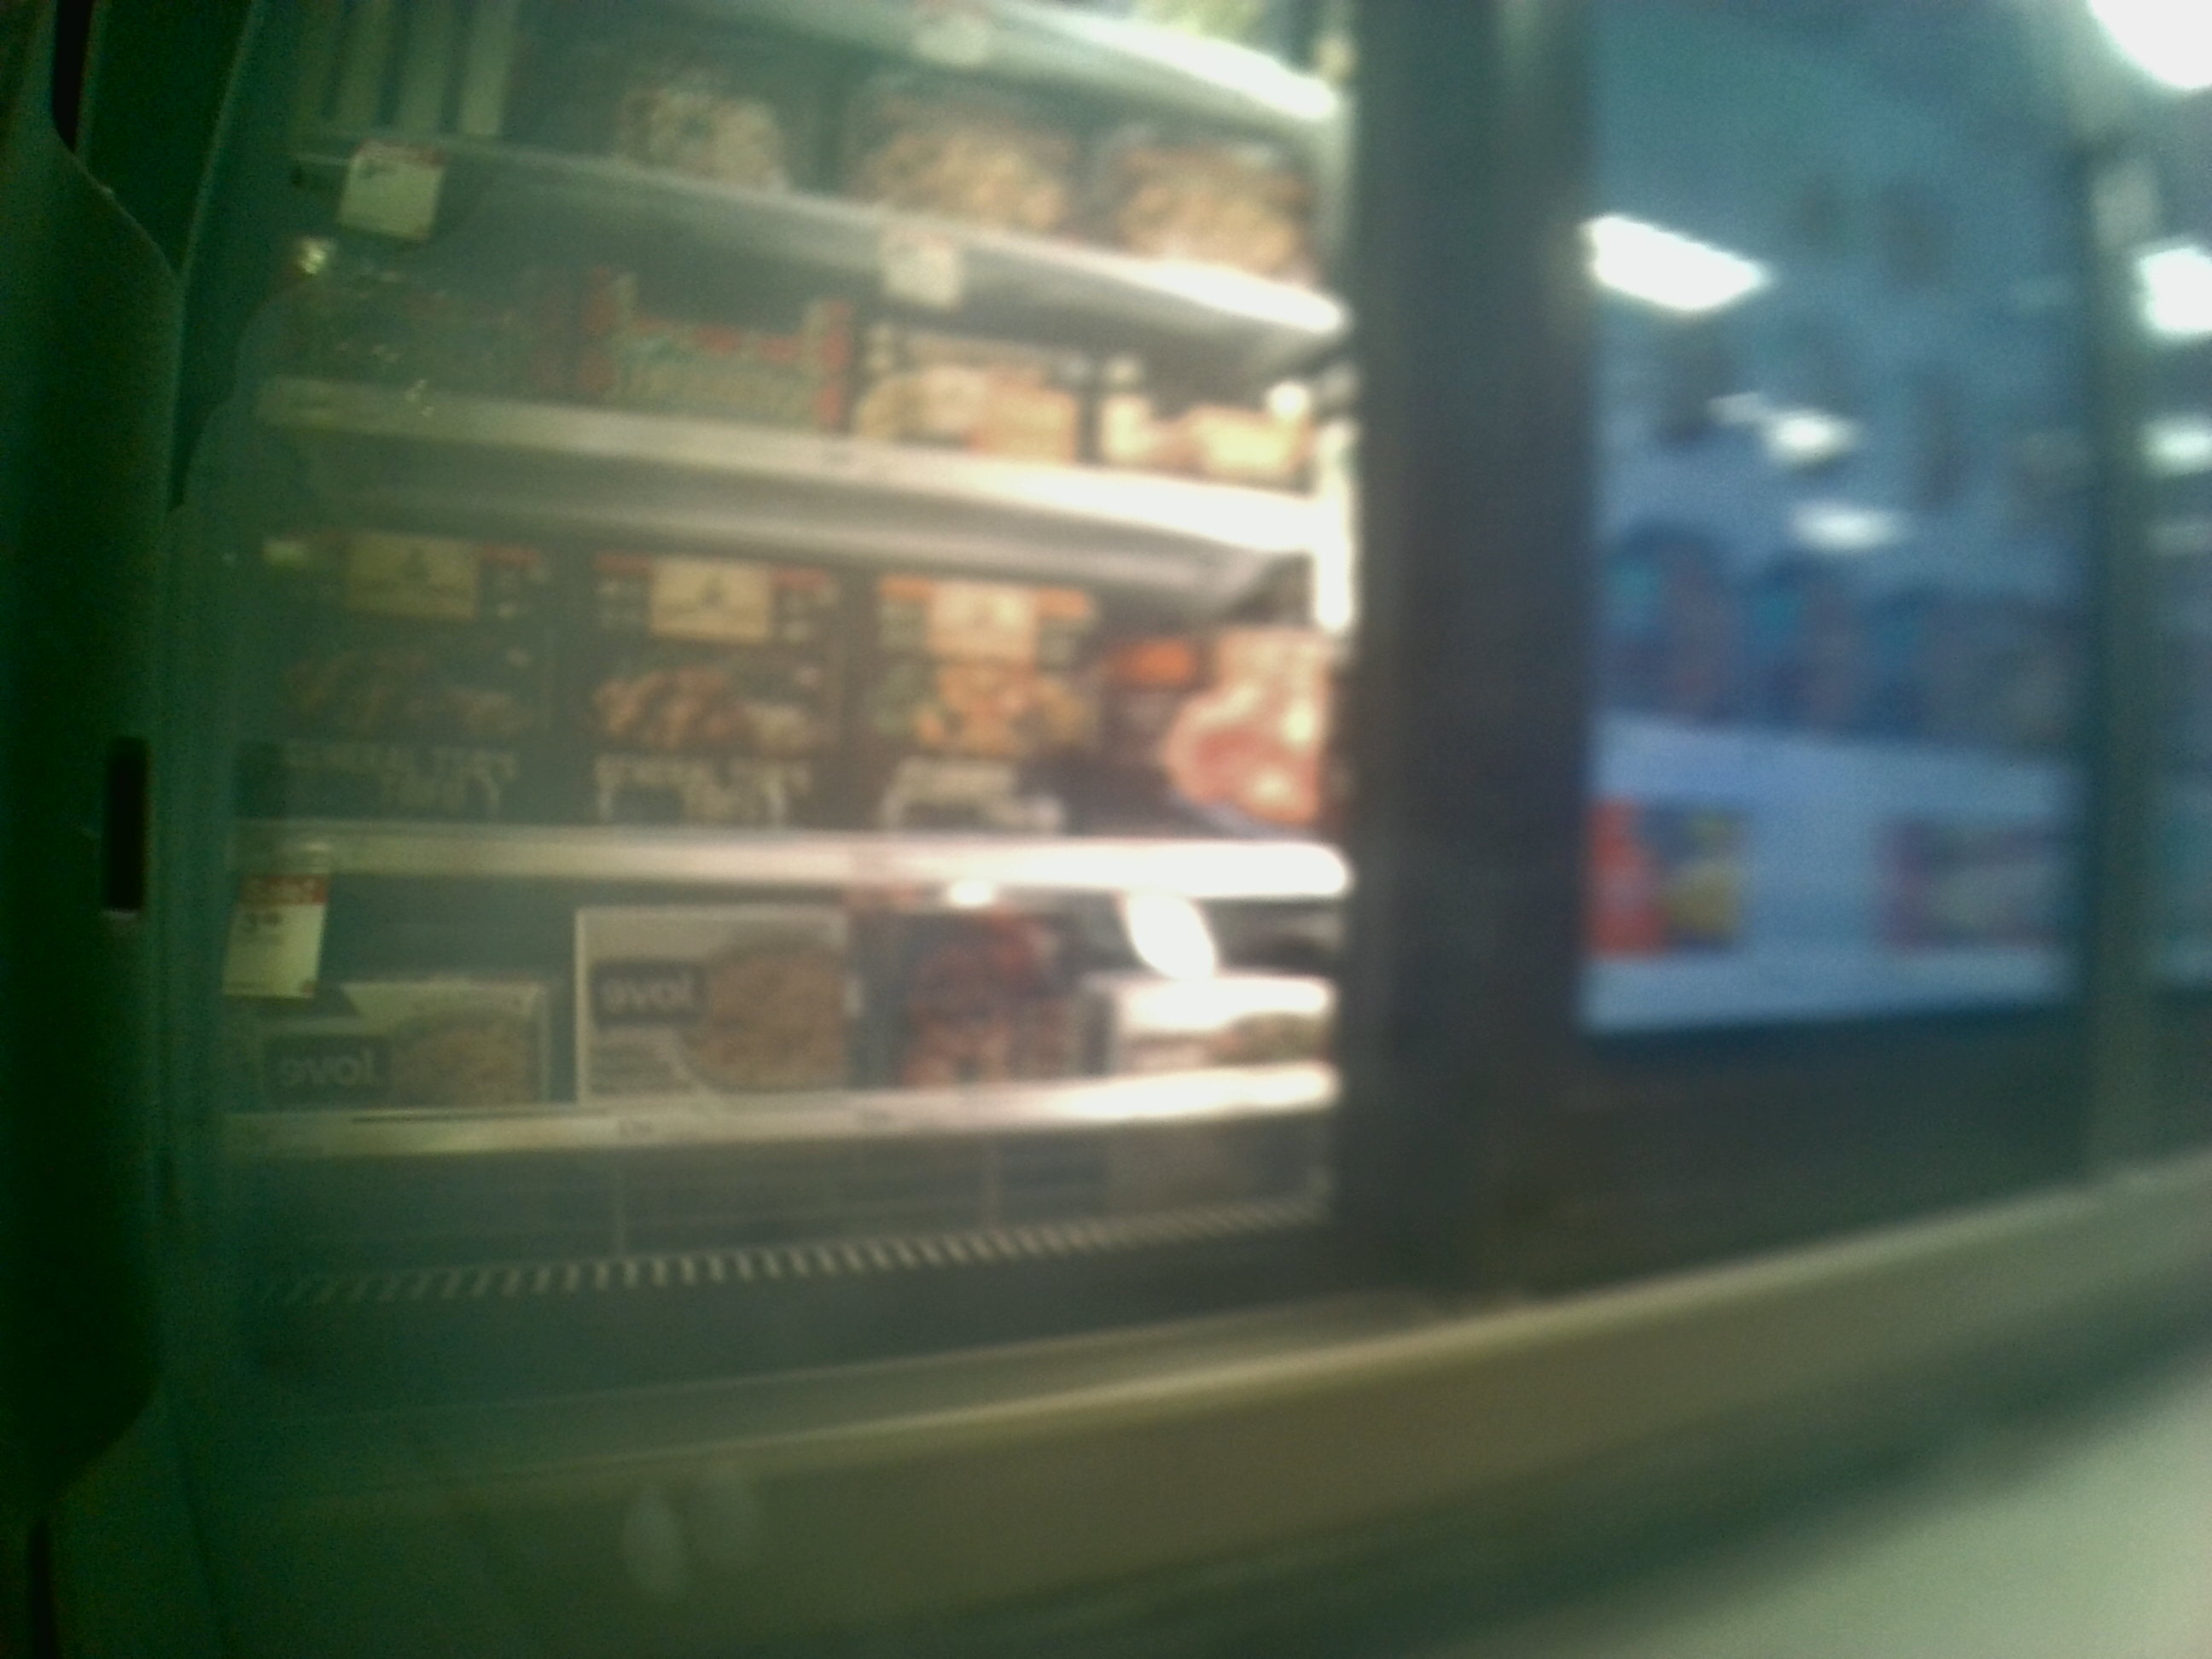frozen-food-shelf: (206, 533, 1362, 908), (199, 910, 1334, 1175)
